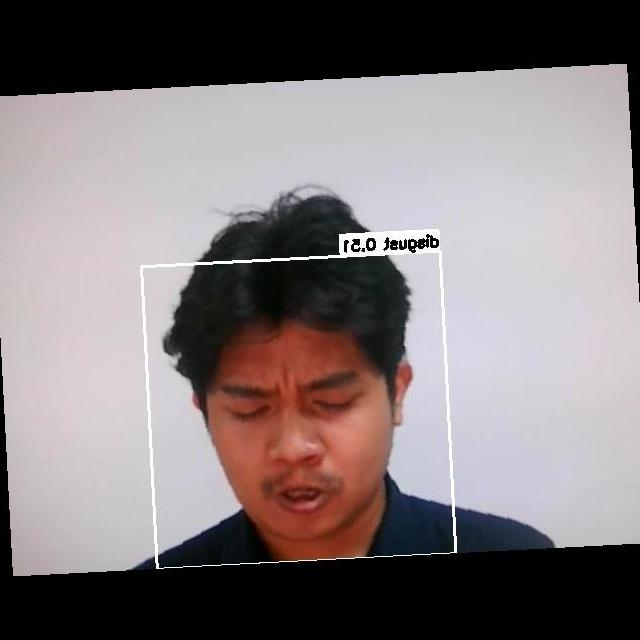Angry: (201, 346, 402, 518)
